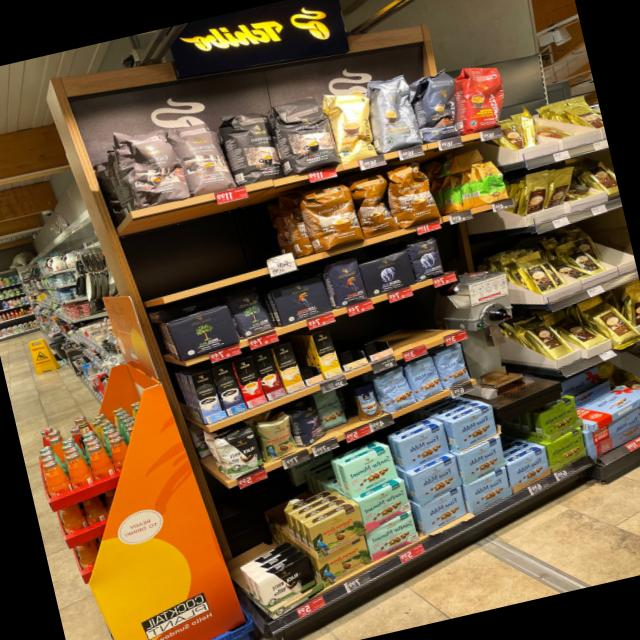AB Bohne: (406, 235, 448, 282)
AB Gemahlen: (356, 249, 417, 299)
BM Bohne: (224, 284, 276, 340)
BM Gemahlen: (165, 304, 241, 362)
BW Bohne: (214, 423, 267, 481)
BW Gemahlen: (257, 553, 316, 613)
Barista CB: (317, 86, 381, 163)
Barista CC: (361, 72, 427, 153)
Barista Espresso: (409, 67, 463, 143)
Barista Kolumbien: (453, 62, 505, 134)
C Fino Bohne: (286, 394, 328, 449)
CC Vollmundig 36 Pads: (301, 179, 367, 249), (382, 158, 443, 229), (348, 170, 400, 238)
Colombia BB Bohne: (254, 410, 301, 464)
Colombia BB Gemahlen: (307, 502, 367, 559), (316, 535, 374, 589)
Empty Shelf: (122, 193, 312, 299), (378, 287, 454, 348), (226, 483, 297, 544), (243, 519, 306, 584), (291, 465, 352, 523), (498, 413, 546, 463), (317, 387, 363, 436), (329, 321, 365, 364), (353, 313, 390, 354), (291, 335, 321, 379)
Espresso Aromatisch: (110, 127, 193, 208), (164, 115, 239, 197)
Espresso Kraftig: (266, 94, 344, 177), (215, 107, 289, 186)
FM Bohne: (374, 365, 418, 414), (404, 353, 445, 403), (432, 342, 472, 390)
FM Gemahlen: (412, 456, 463, 506), (398, 422, 449, 471), (459, 435, 506, 486), (419, 485, 467, 534), (466, 467, 513, 515), (452, 404, 498, 452)
FM Instant: (348, 381, 384, 421)
Herzhatfe Mundig: (540, 395, 583, 443), (546, 427, 586, 473), (507, 445, 550, 487)
LG Bohne: (323, 255, 368, 308)
LG Gemahlen: (270, 274, 334, 327)
SM Gemahlen: (343, 445, 398, 499), (357, 480, 413, 533), (366, 510, 419, 563)
Simo CCMild bigpack: (310, 329, 343, 379)
Simo Decaff: (271, 341, 306, 393)
Simo Es Brazil: (233, 355, 268, 409)
Simo Es Caramel: (253, 348, 287, 401)
Simo Es Kraft: (210, 362, 248, 417)
Simo Es Vanilla: (190, 370, 227, 423)
